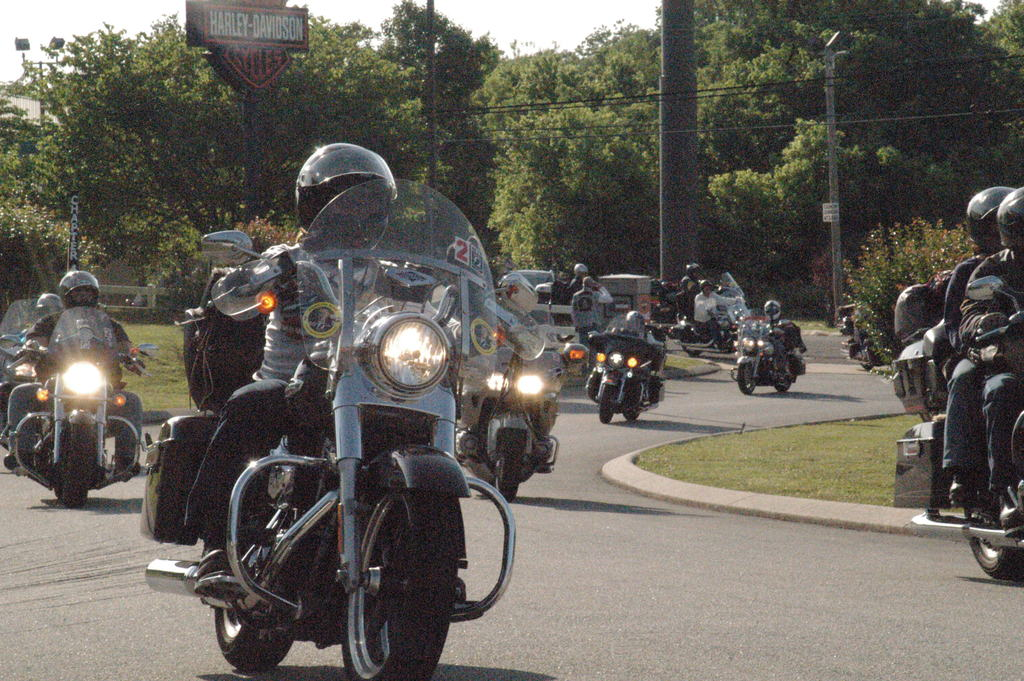Motorcycle: (155, 185, 544, 681), (894, 304, 1023, 583), (1, 306, 158, 504), (579, 306, 676, 424), (726, 318, 803, 391), (668, 299, 742, 361)
